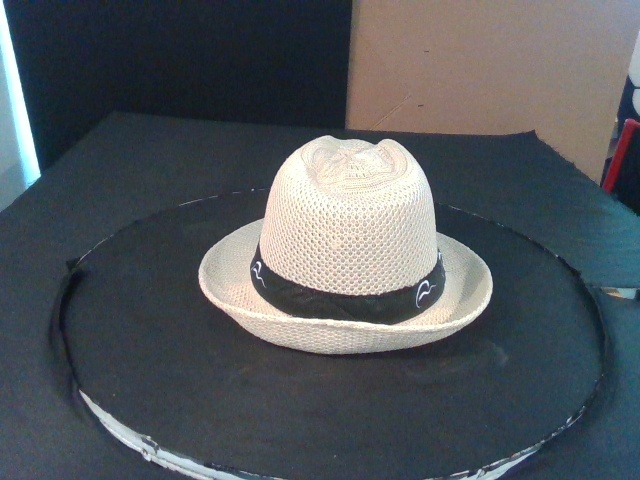hat: (201, 135, 493, 355)
